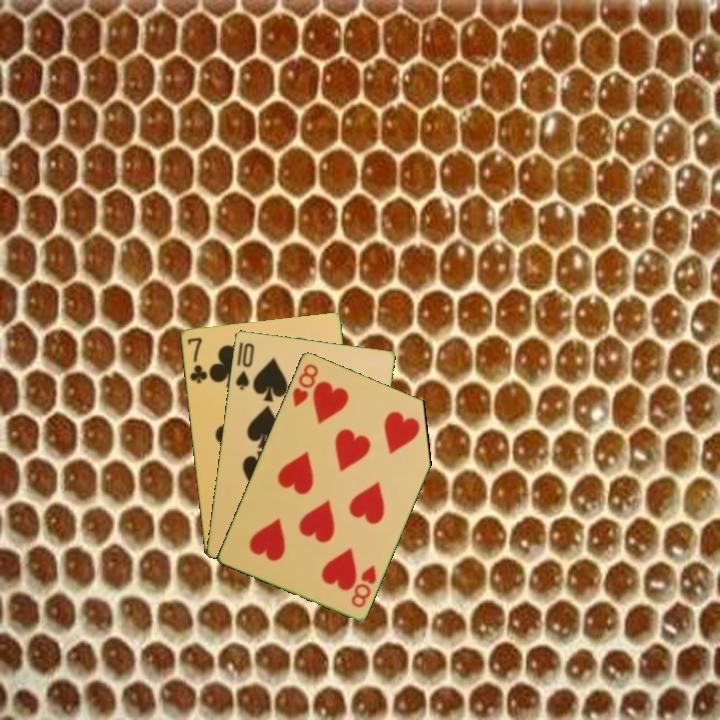10s: (231, 339, 257, 393)
7c: (184, 334, 210, 386)
8h: (289, 360, 321, 409), (347, 561, 379, 610)
